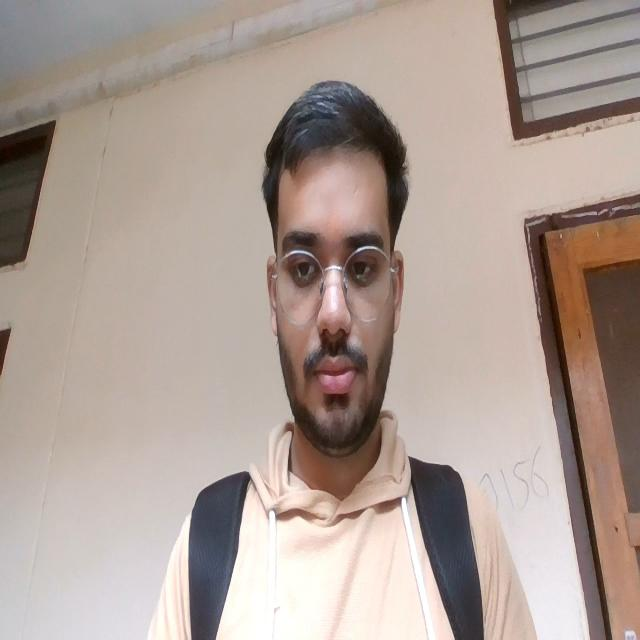awake: (278, 224, 381, 406)
